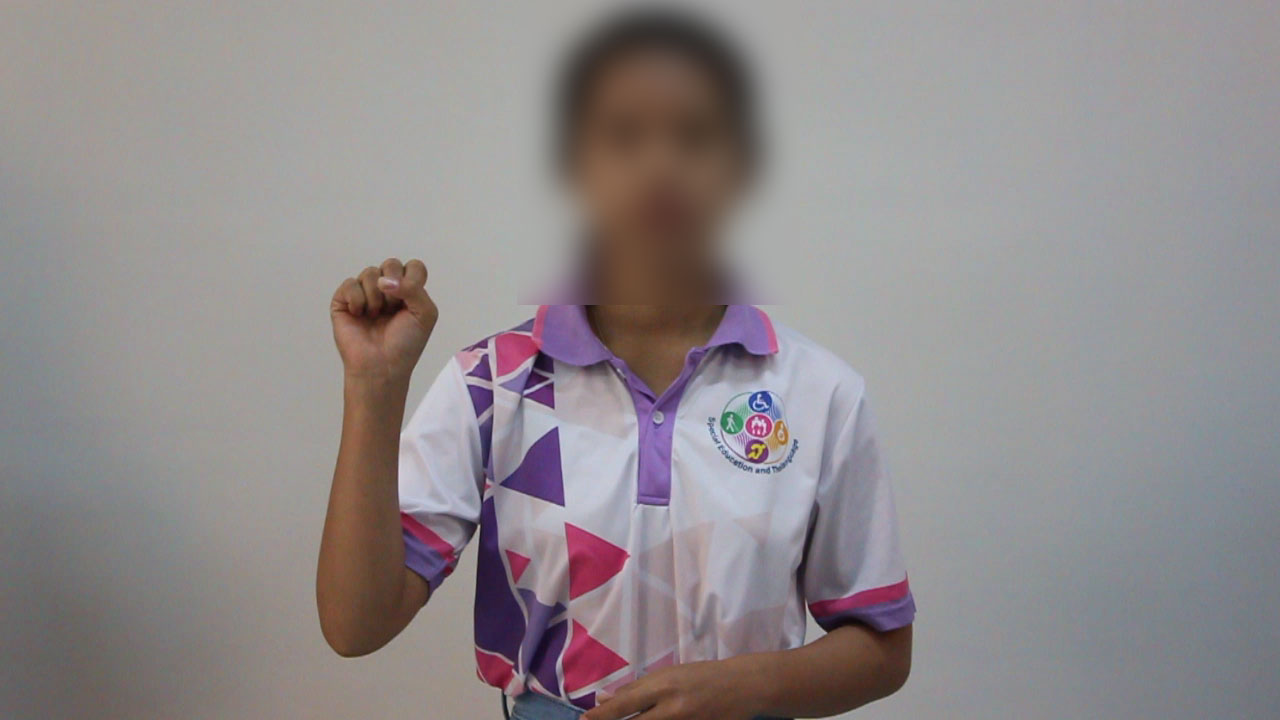sor: (315, 233, 462, 395)
